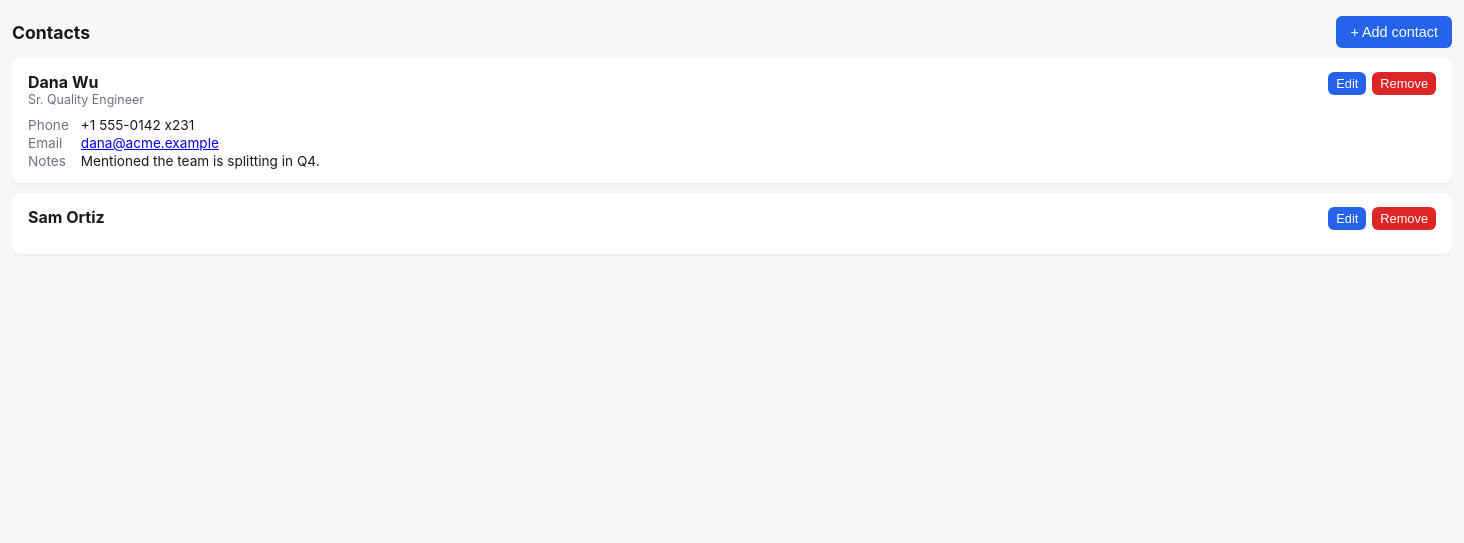
Scenario: ContactsEditor › adding › closes the form without sending anything on cancel
Click the button "+ Add contact" at (1394, 32), box [1336,16,1452,48]
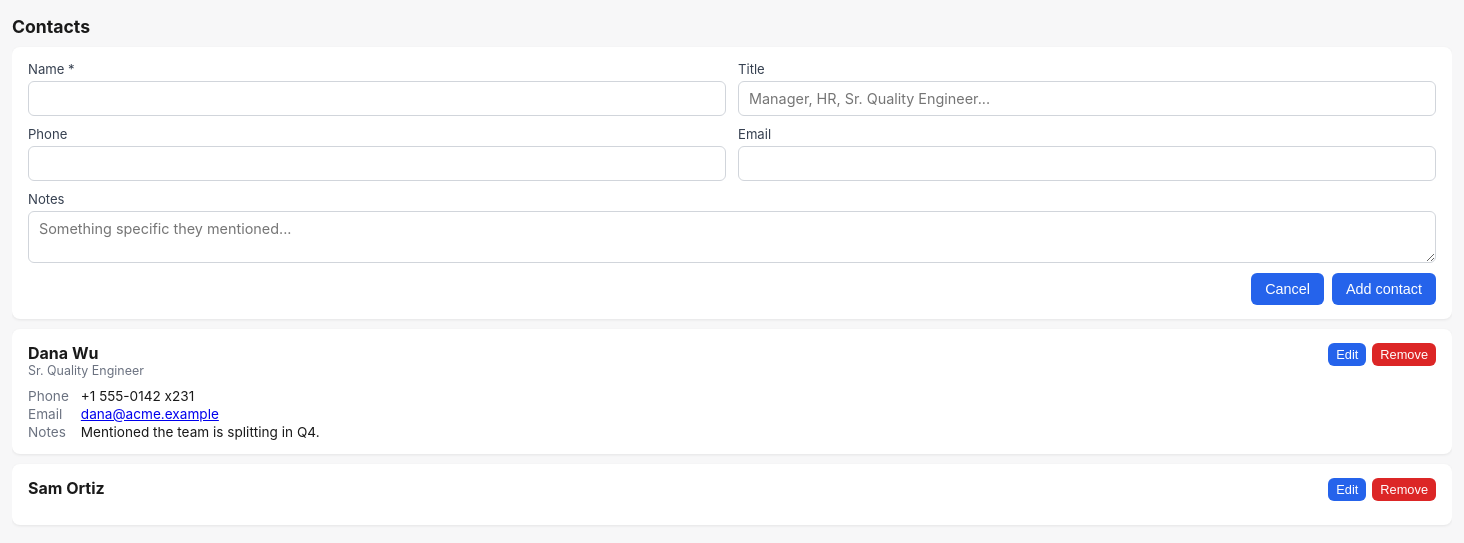
Type "Discarded" into the field labelled "Name *" at (377, 98), box [28,81,726,116]
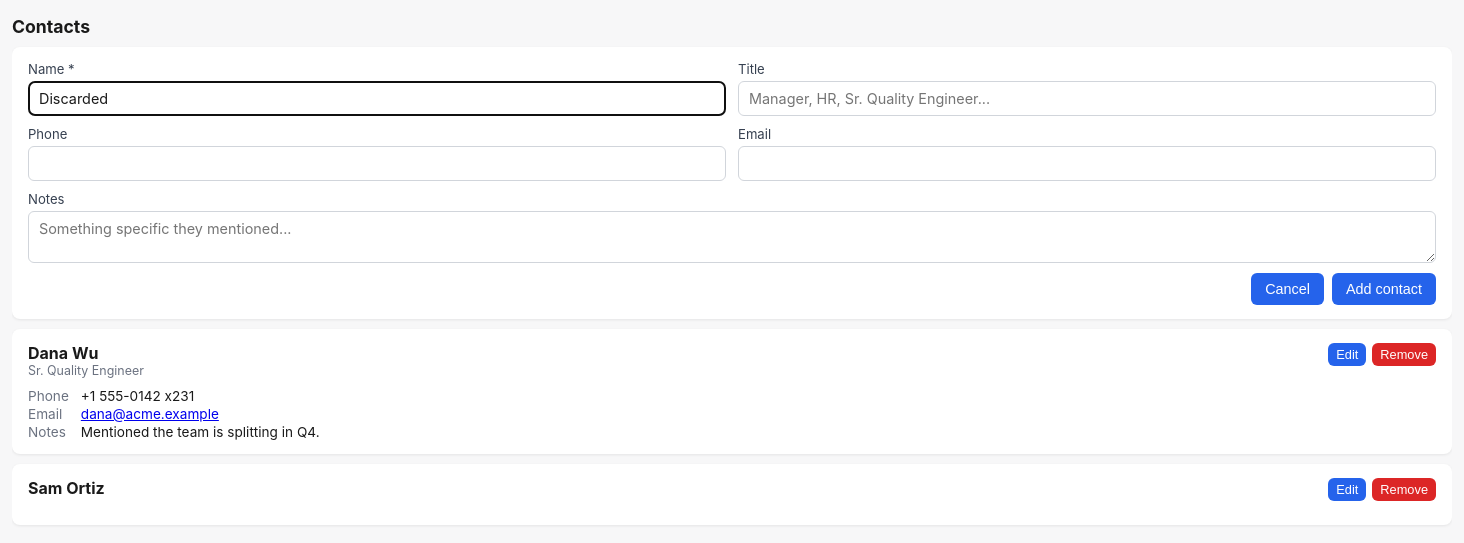
Click the button "Cancel" at (1288, 289), box [1251,273,1324,305]
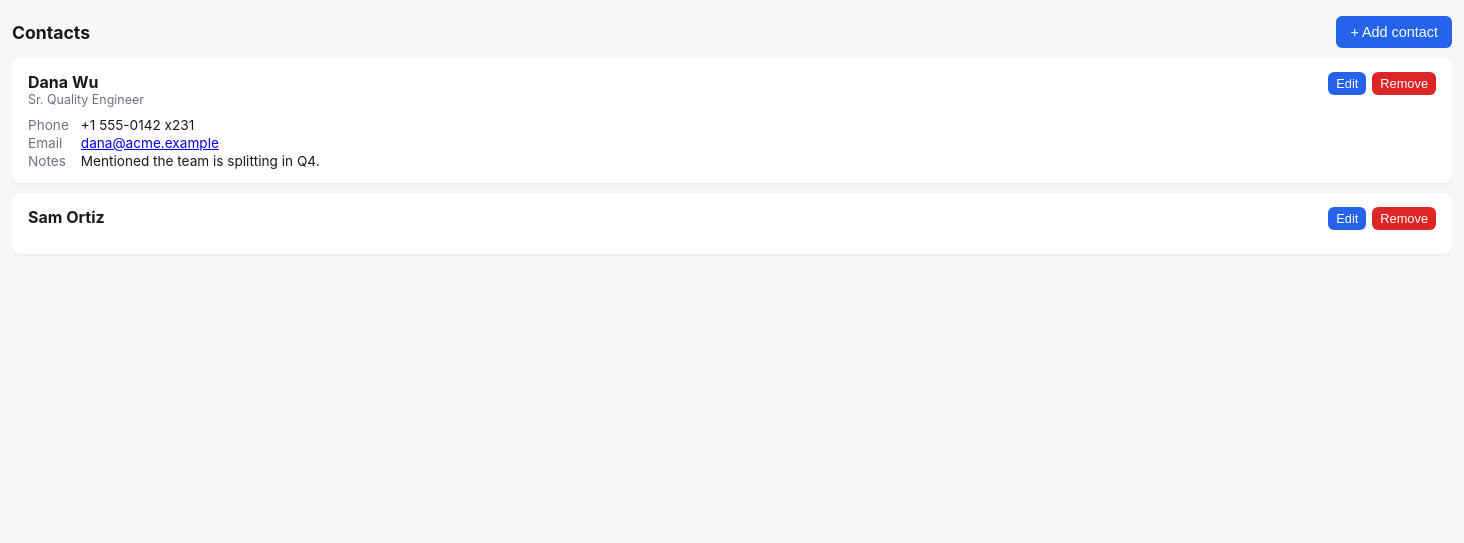
Now the label labelled "Name" is gone
